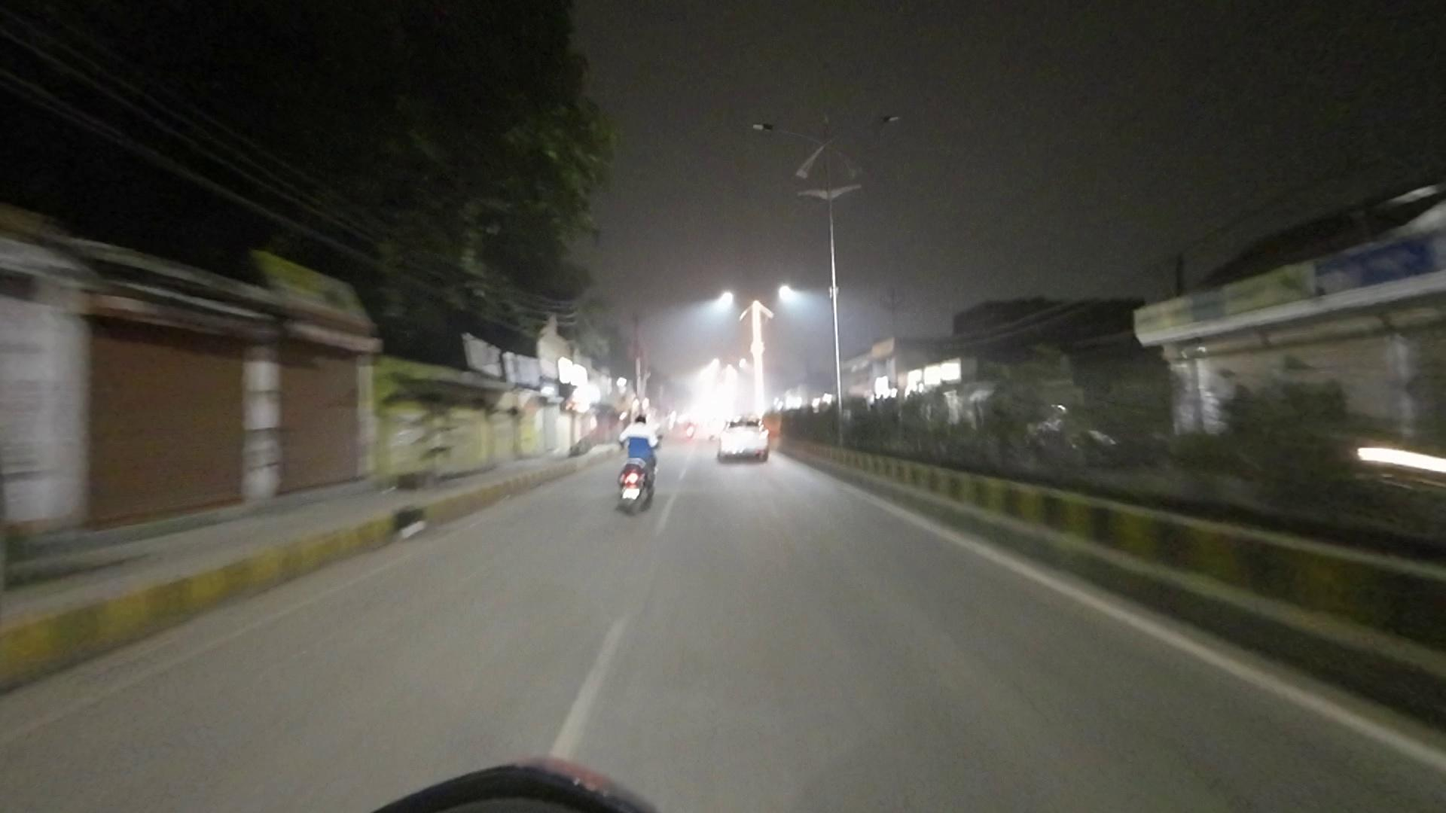streetlight: (838, 113, 903, 136), (749, 119, 811, 140)
